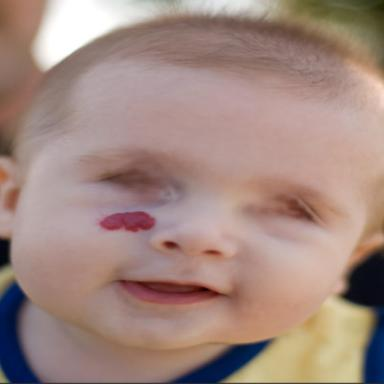Hemangiome: (99, 211, 155, 232)
